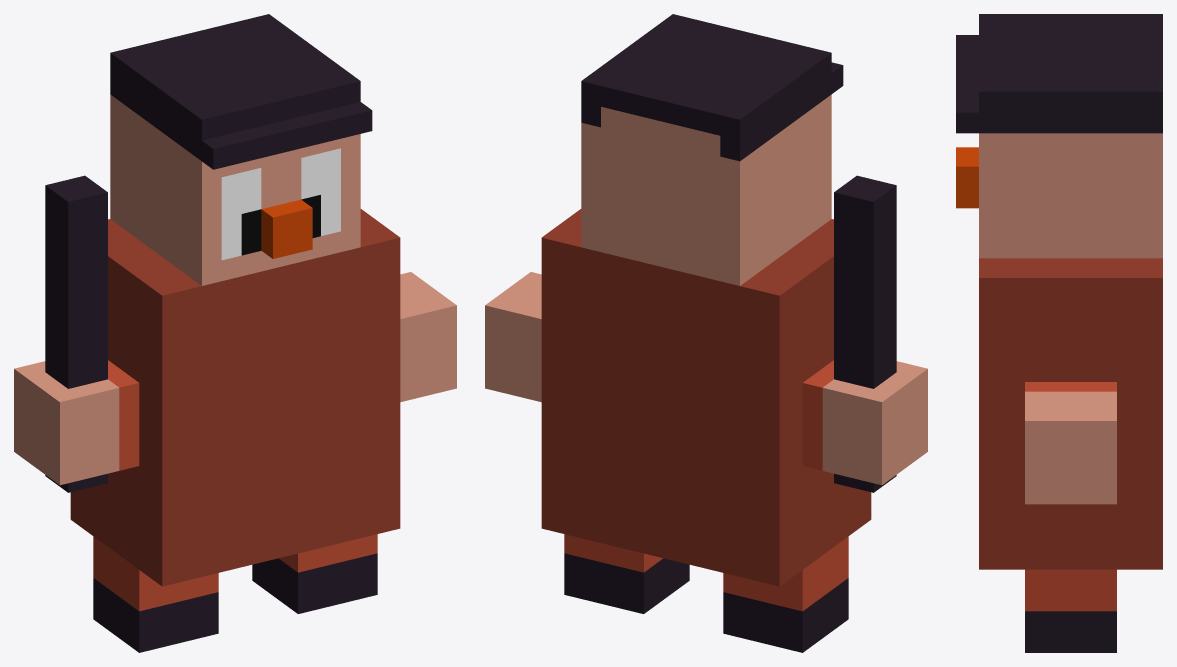
The model's file is Enemy_Idle.glb.
3 views of the same model, side by side, from view 1: azimuth 30°, elevation 25°; view 2: azimuth 150°, elevation 25°; view 3: azimuth 270°, elevation 25° (orthographic).
Parts seen in each view (by area): view 1: pl0; view 2: pl0; view 3: pl0.
Part boxes in pixels (box(x1,y1,x2,y2)): pl0: box(14, 14, 456, 652); pl0: box(485, 14, 927, 652); pl0: box(956, 14, 1162, 652).
Size of the model in its own units: 2 by 2.6 by 0.9.
1 material, 1 textured.
